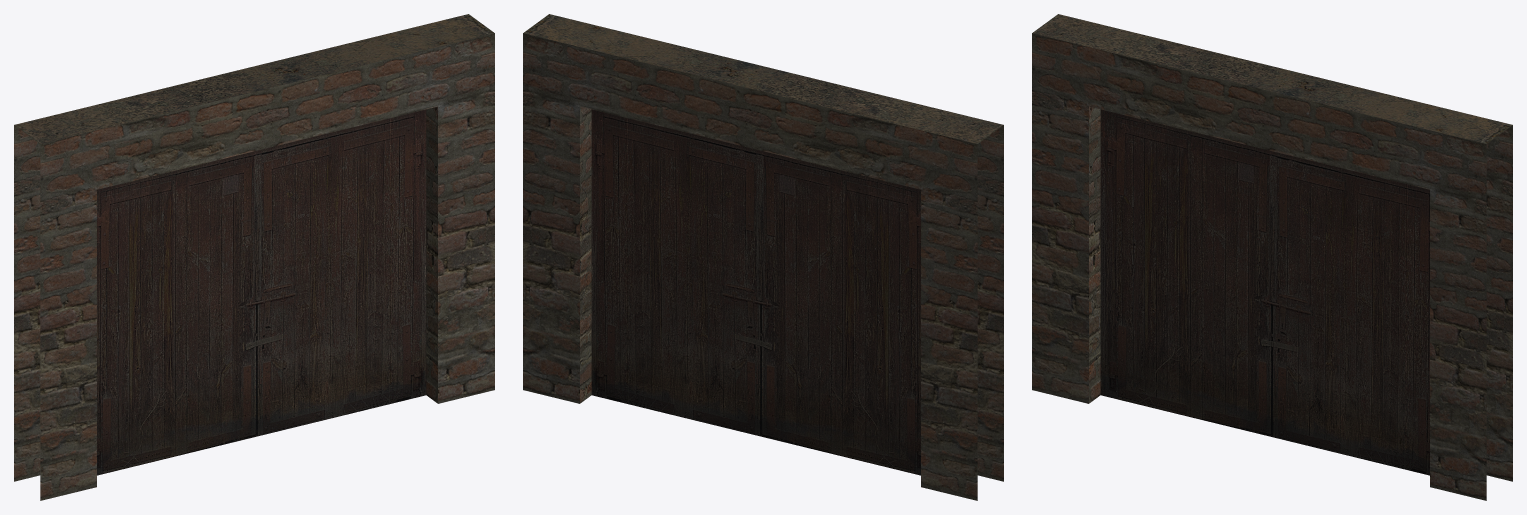
Rendered from garage_door_frame_hr_2.fbx.
3 renders of one model, left to right at view 1: azimuth 30°, elevation 25°; view 2: azimuth 150°, elevation 25°; view 3: azimuth 330°, elevation 25°, orthographic.
Visible parts, largest first — view 1: garage_door_hm_5, garage_door_frame_hr_2; view 2: garage_door_hm_5, garage_door_frame_hr_2; view 3: garage_door_hm_5, garage_door_frame_hr_2.
Part boxes in pixels (x1,y1,x2,y2): garage_door_hm_5: (97, 109, 426, 475); garage_door_frame_hr_2: (14, 14, 494, 500); garage_door_hm_5: (591, 109, 920, 475); garage_door_frame_hr_2: (523, 14, 1003, 500); garage_door_hm_5: (1100, 109, 1429, 475); garage_door_frame_hr_2: (1032, 14, 1512, 500).
Size of the model in its own units: 4 by 0.4 by 3.
